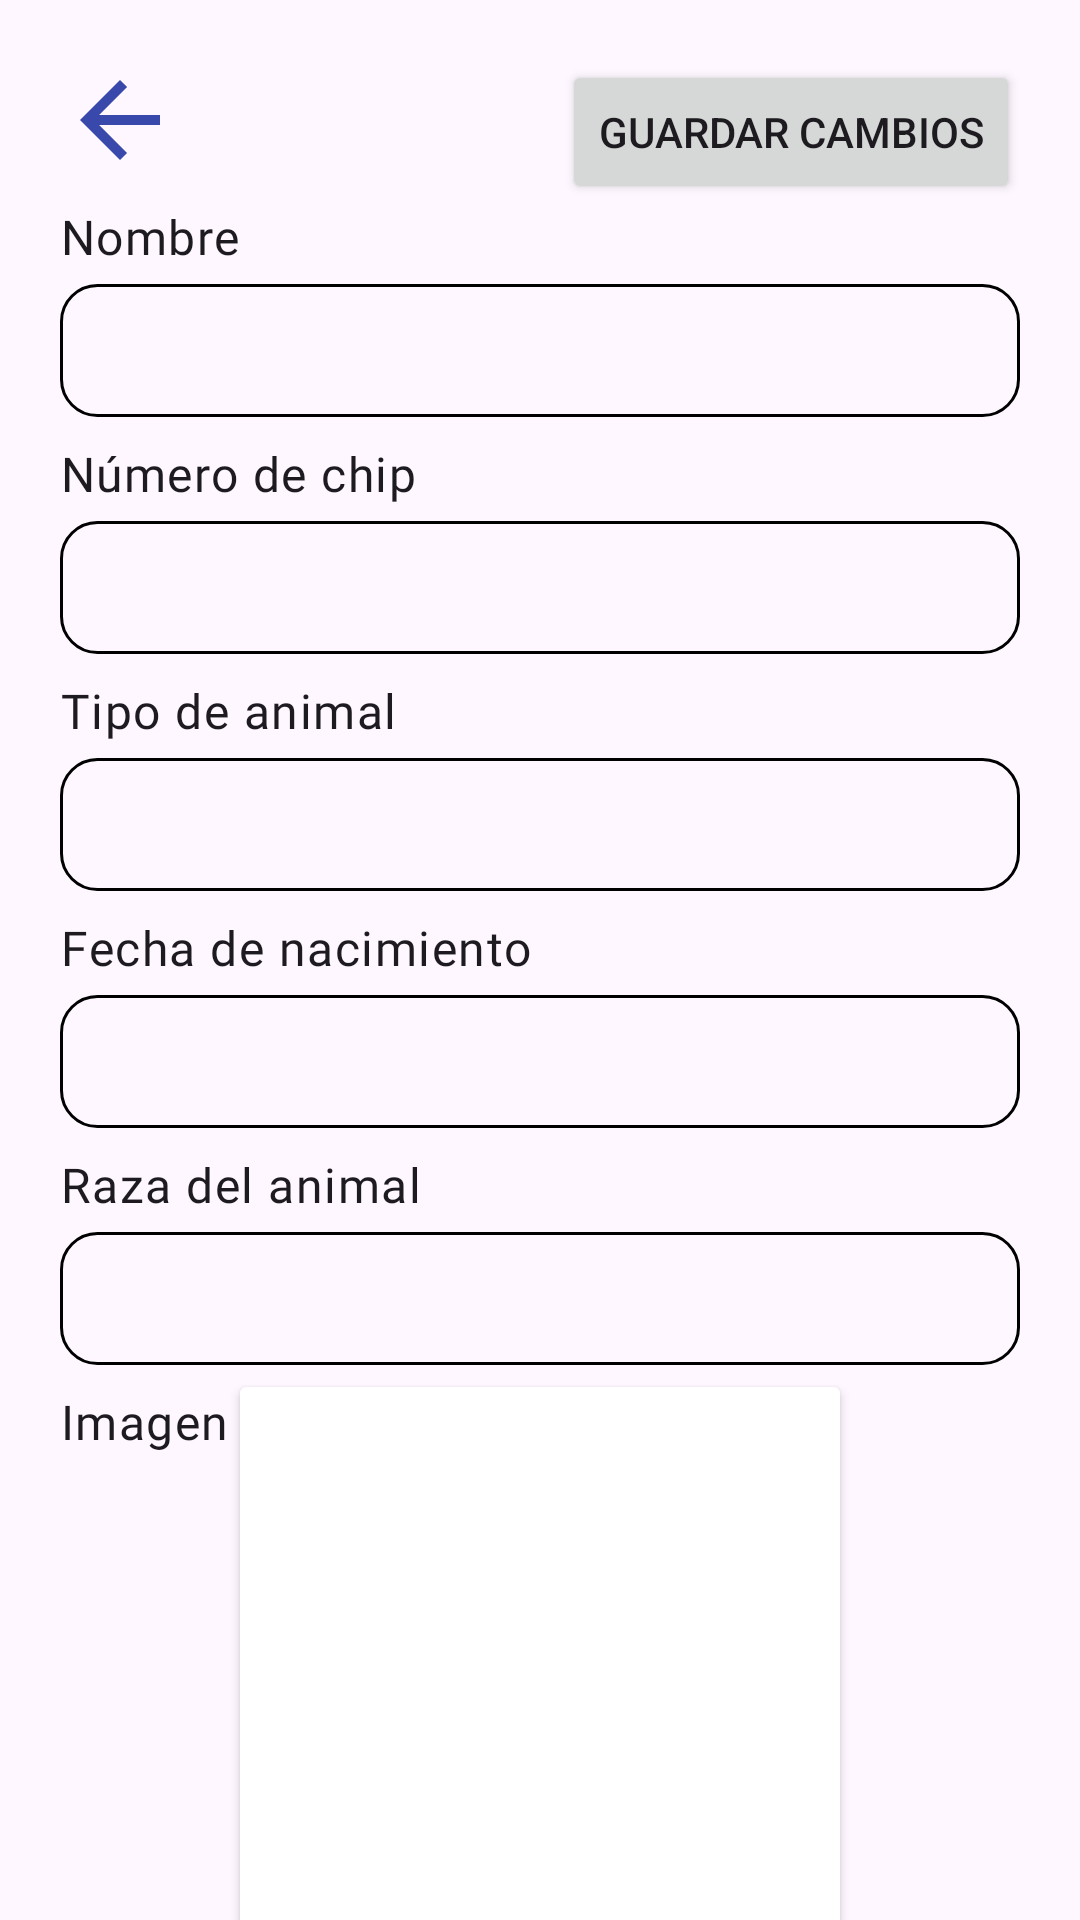

Locate icon controls on the screen. Image size 1080*1920, boxes as bbox=[x1, y1, x2, y2].
arrow back: bbox=[80, 80, 160, 160]
